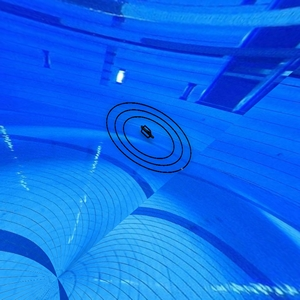circle: (102, 99, 199, 175)
submarine: (139, 124, 159, 144)
